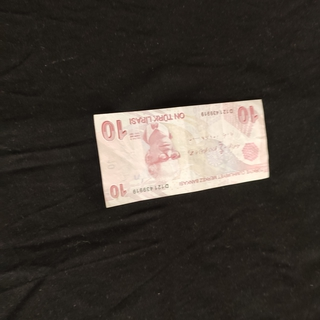10TLBack: (91, 97, 271, 208)
